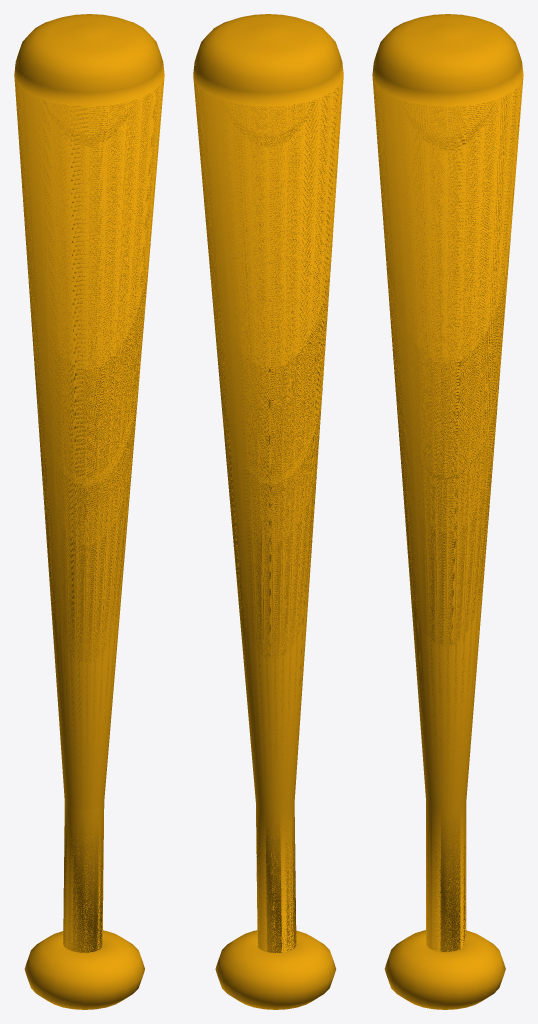
File: baseball_schlaeger.fbx
The picture shows the model from 3 angles, left to right: view 1: azimuth 30°, elevation 25°; view 2: azimuth 150°, elevation 25°; view 3: azimuth 270°, elevation 25°; orthographic projection.
Visible parts, largest first — view 1: Torus.001; view 2: Torus.001; view 3: Torus.001.
Boxes of the visible parts, x1,y1,x2,y2 form: Torus.001: [14, 14, 164, 1009]; Torus.001: [193, 14, 343, 1009]; Torus.001: [372, 14, 523, 1009].
Bounding box in the file's own units: 209 × 1480 × 209.
